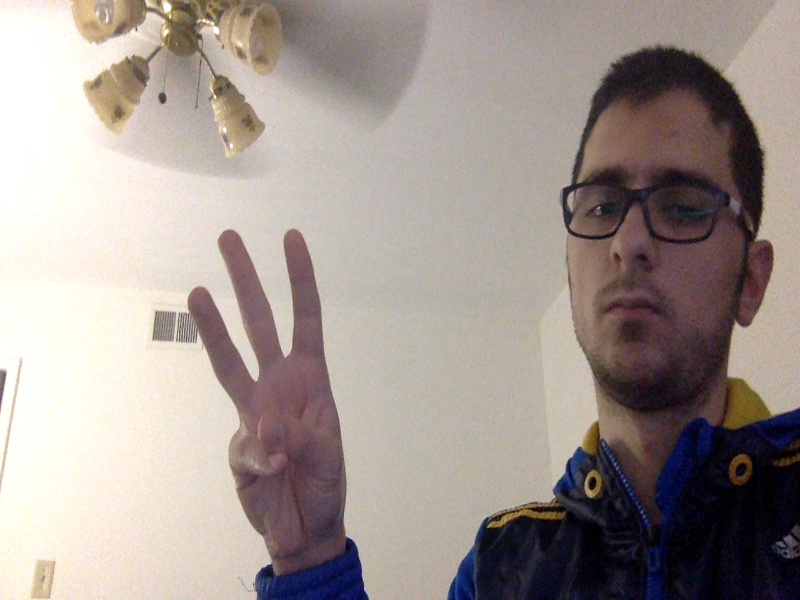3-hand: (188, 228, 347, 561)
